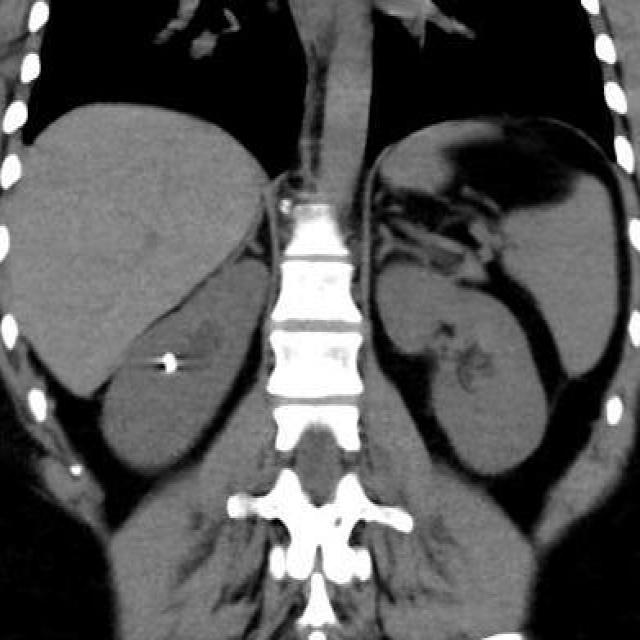Tas_Var: (162, 350, 178, 376)
